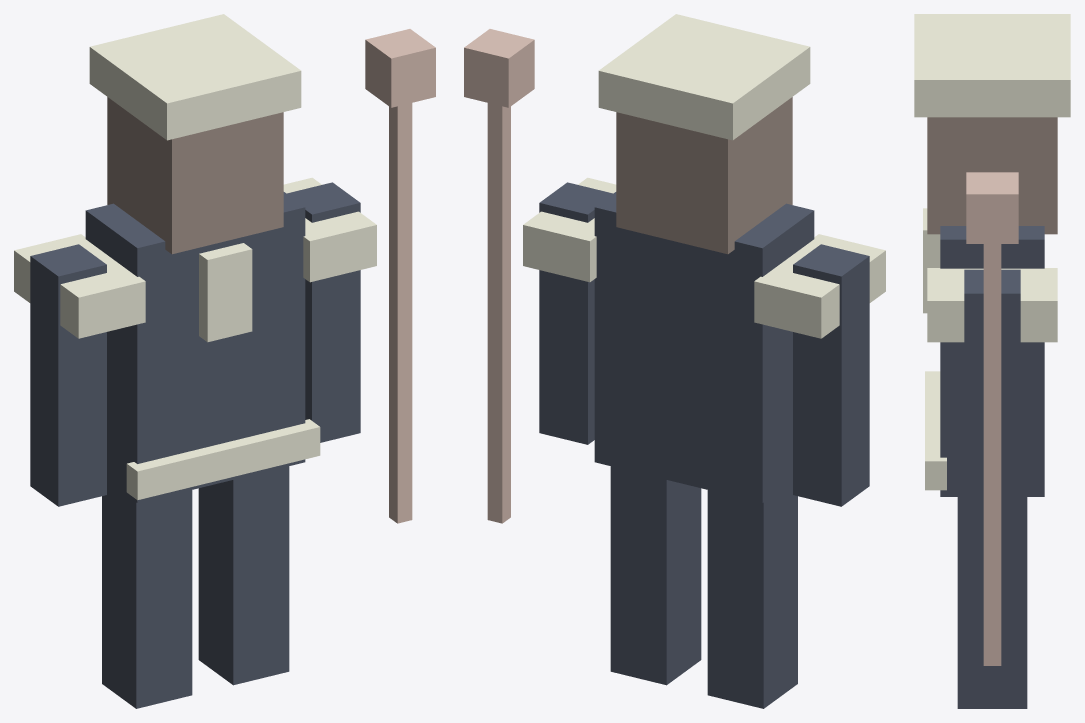
The model's file is 01_nyra_deepwell_oracle_under_emergency.glb.
The picture shows the model from 3 angles, left to right: view 1: azimuth 30°, elevation 25°; view 2: azimuth 150°, elevation 25°; view 3: azimuth 270°, elevation 25°; orthographic projection.
Parts seen in each view (by area): view 1: Nyra Deepwell, Oracle under Emergency; view 2: Nyra Deepwell, Oracle under Emergency; view 3: Nyra Deepwell, Oracle under Emergency.
Boxes of the visible parts, <box> form: Nyra Deepwell, Oracle under Emergency: <box>14,14,435,708</box>; Nyra Deepwell, Oracle under Emergency: <box>464,14,885,708</box>; Nyra Deepwell, Oracle under Emergency: <box>914,14,1070,708</box>.
Size of the model in its own units: 1.09 by 1.7 by 0.3867.
